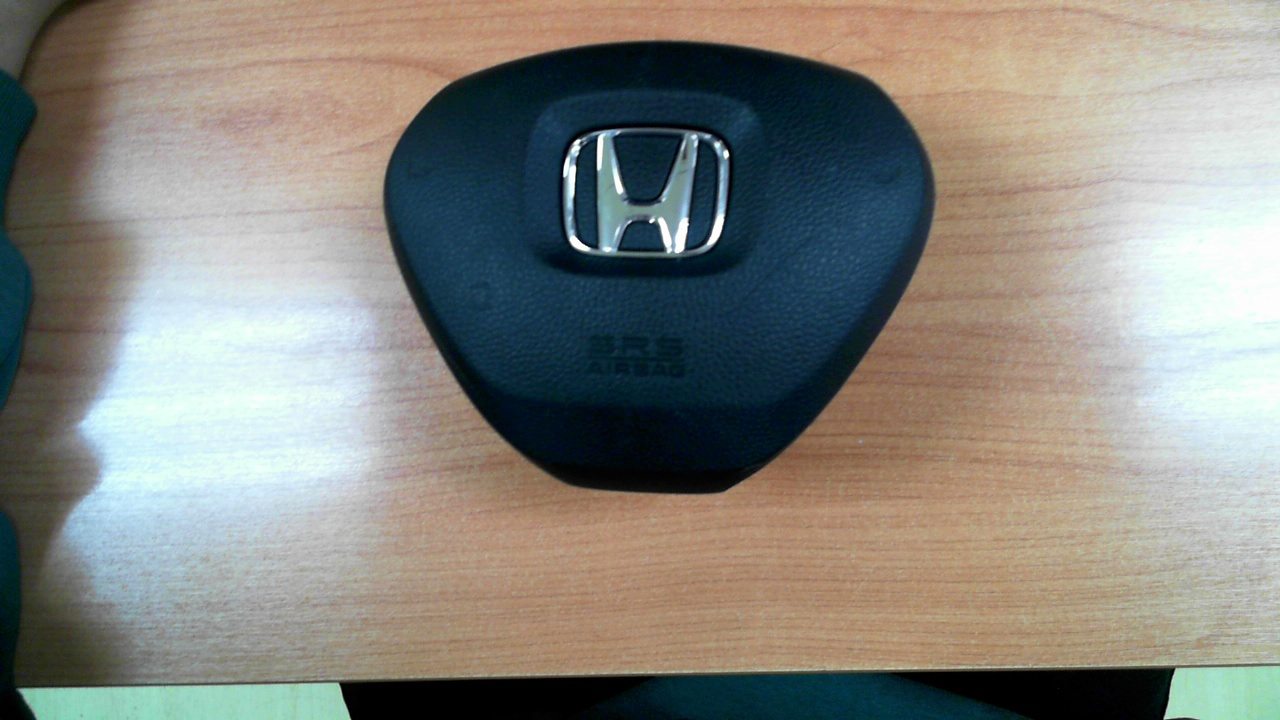Airbag: (382, 40, 936, 497)
Honda: (562, 127, 731, 258)
